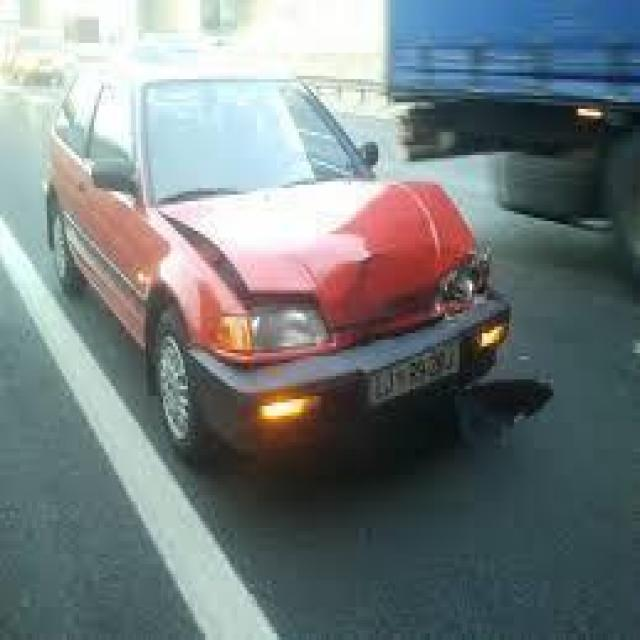damaged: (245, 247, 373, 317), (163, 218, 257, 307), (430, 244, 497, 317)
